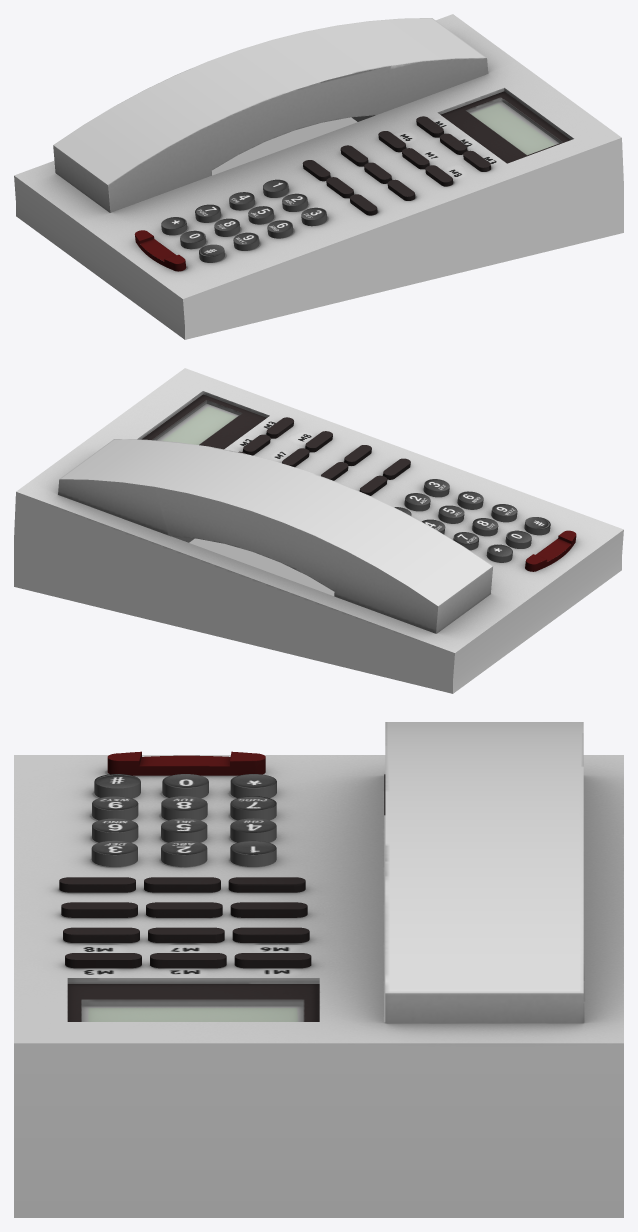
Rendered from Phone.fbx.
3 renders of one model, top to bottom at view 1: azimuth 30°, elevation 25°; view 2: azimuth 150°, elevation 25°; view 3: azimuth 270°, elevation 25°, orthographic. The views are drawn at different scales.
Visible parts, largest first — view 1: Phone2; view 2: Phone2; view 3: Phone2.
Boxes of the visible parts, x1=… form: Phone2: x1=14, y1=14, x2=623, y2=339; Phone2: x1=14, y1=368, x2=623, y2=693; Phone2: x1=14, y1=722, x2=623, y2=1217.
Bounding box in the file's own units: 15.92 × 4.31 × 10.56.
